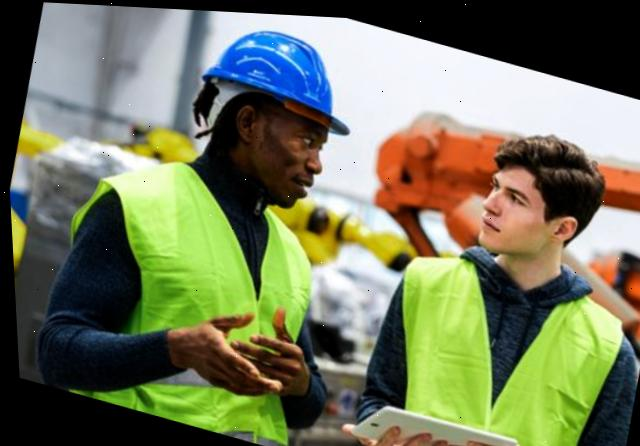helmet: (191, 11, 369, 138)
vest: (60, 154, 339, 446), (351, 238, 615, 446)
